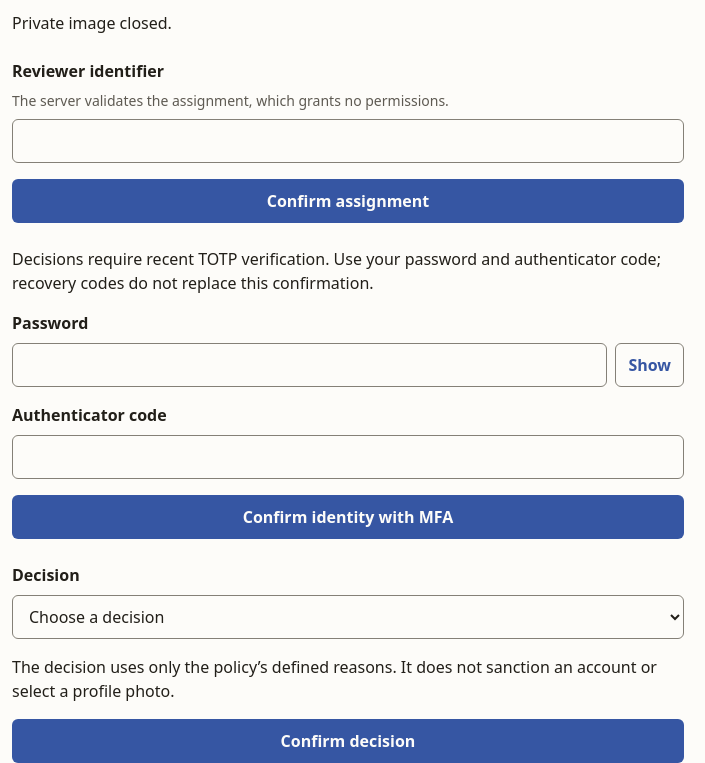
private photo review UI › requires an explicit new decision after successful recent-TOTP verification
The width and height of the screenshot is (705, 763).
(page scrolled)
Select "Approve: meets the policy" in the dropdown labelled "Decision" at (348, 617), box x1=12 y1=595 x2=684 y2=639
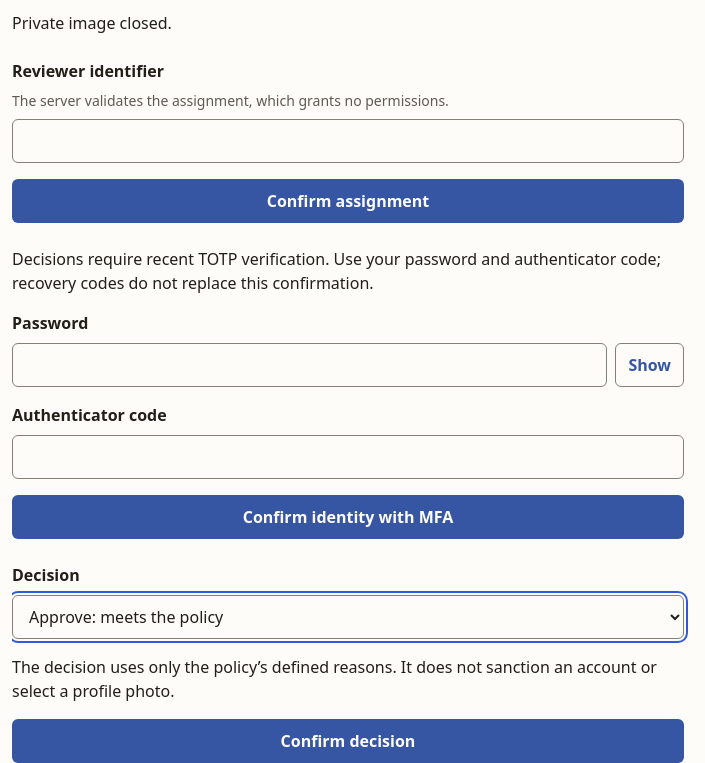
Click the button "Confirm decision" at (348, 741), box x1=12 y1=719 x2=684 y2=762
(page scrolled)
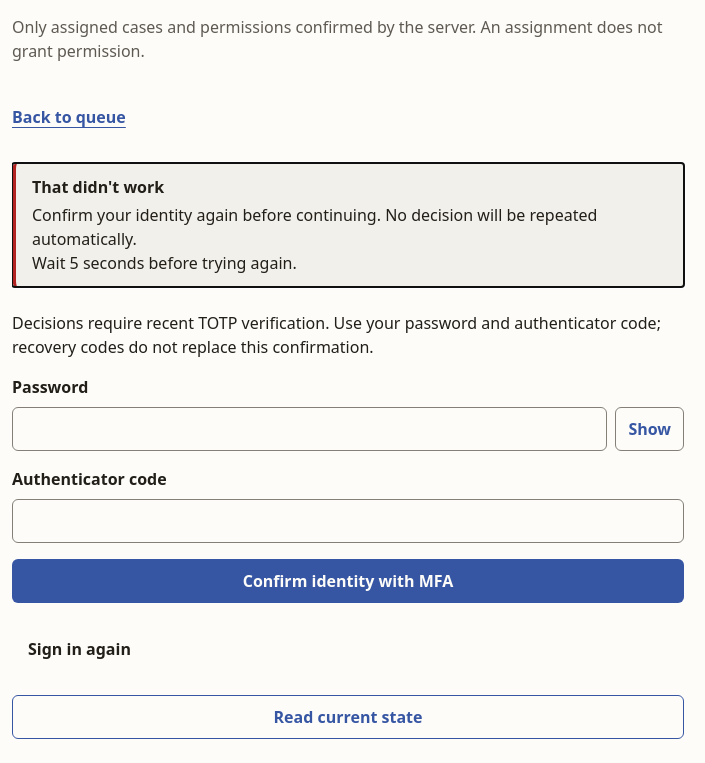
Expected: the text "Confirm your identity again before continuing. No decision will be repeated automatically." is shown, x1=32 y1=204 x2=597 y2=250
Type "synthetic phrase" into the password field labelled "Password" at (310, 429), box x1=12 y1=407 x2=607 y2=451
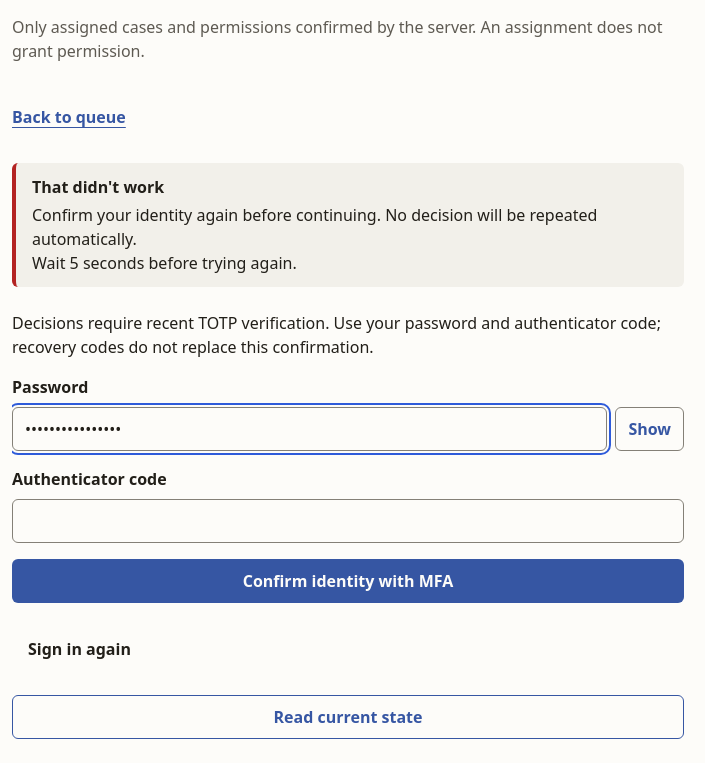
Type "123456" into the field labelled "Authenticator code" at (348, 521), box x1=12 y1=499 x2=684 y2=543
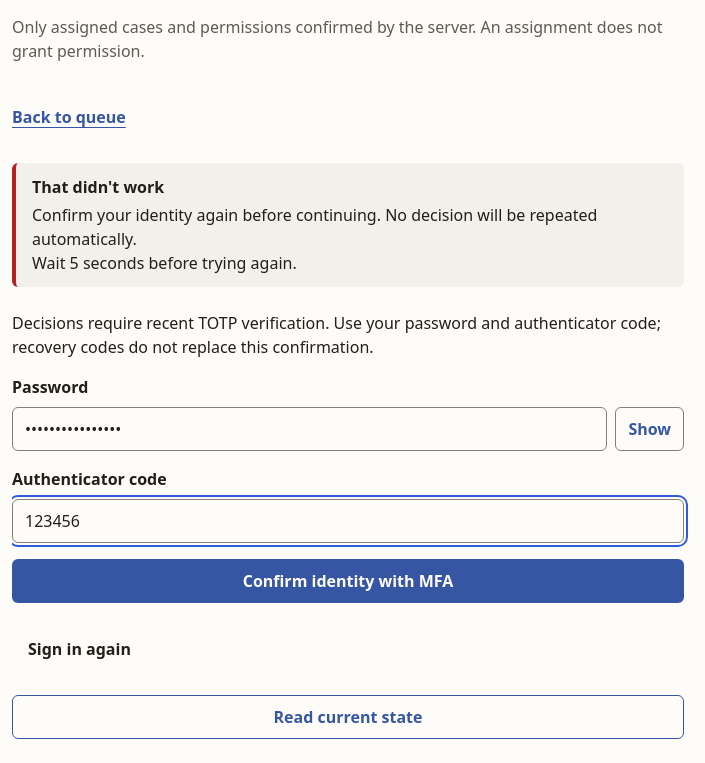
Click the button "Confirm identity with MFA" at (348, 581), box x1=12 y1=559 x2=684 y2=603
(page scrolled)
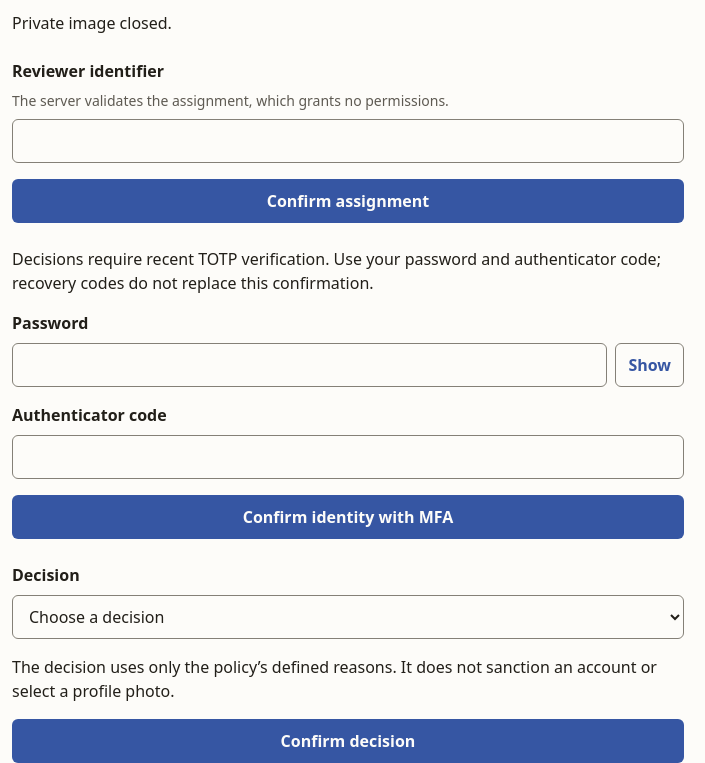
Expected: the dropdown labelled "Decision" shows "Choose a decision", x1=12 y1=595 x2=684 y2=639
